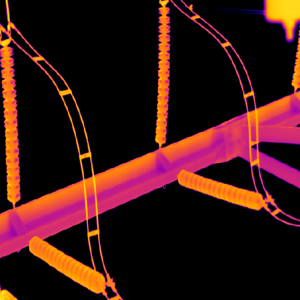insulator: (27, 234, 105, 293), (177, 166, 262, 211), (0, 45, 21, 203), (154, 0, 171, 143)
